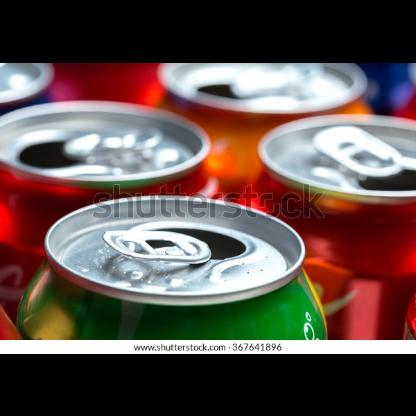Lid_Open: (104, 204, 257, 280), (310, 120, 416, 196), (17, 122, 165, 176), (192, 62, 320, 108)
